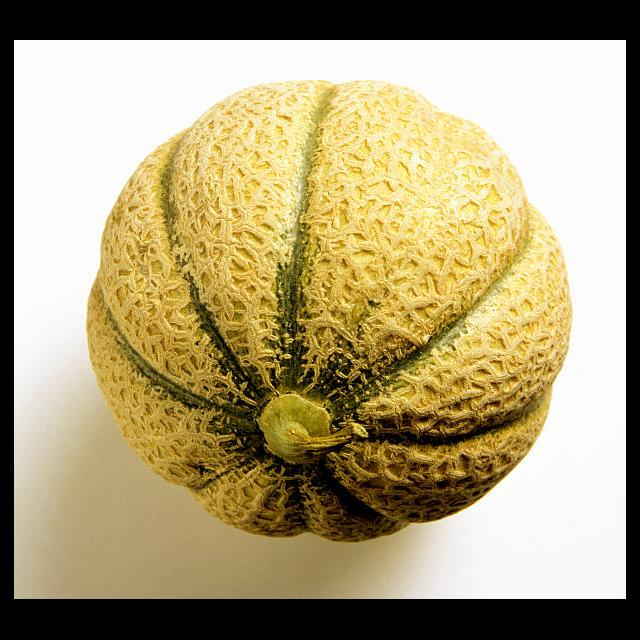Hami Melon: (85, 82, 572, 545)
